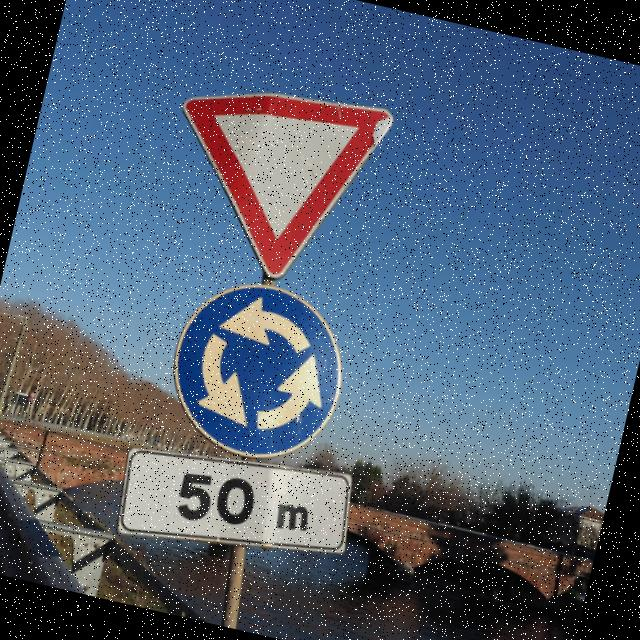round_about: (150, 266, 360, 479)
